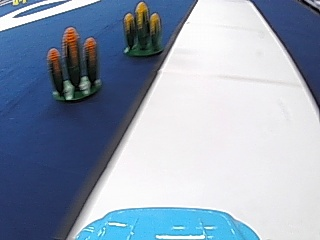corn: (46, 26, 102, 104), (120, 0, 164, 58)
